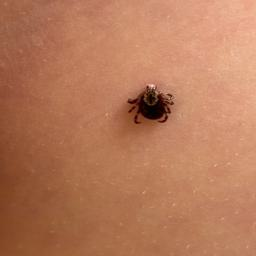Dermacentor variabilis: (127, 88, 176, 124)
